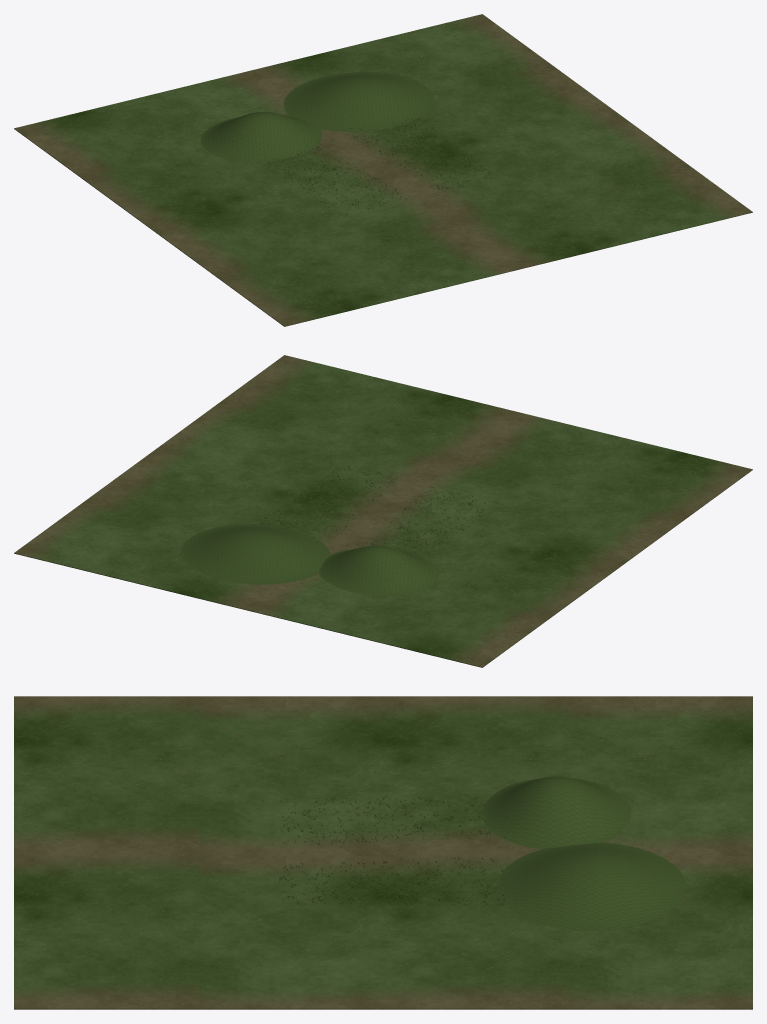
Rendered from hills-v1.glb.
3 views of the same model, one above another, from view 1: azimuth 30°, elevation 25°; view 2: azimuth 150°, elevation 25°; view 3: azimuth 270°, elevation 25° (orthographic). The views are drawn at different scales.
Parts seen in each view (by area): view 1: Earth gravel and wheel ruts, Distant terrain rise, Grass blades; view 2: Earth gravel and wheel ruts, Distant terrain rise, Grass blades; view 3: Earth gravel and wheel ruts, Distant terrain rise, Grass blades.
Boxes of the visible parts, x1=… form: Earth gravel and wheel ruts: x1=14, y1=14, x2=752, y2=326; Distant terrain rise: x1=200, y1=72, x2=434, y2=161; Grass blades: x1=268, y1=113, x2=493, y2=214; Earth gravel and wheel ruts: x1=14, y1=355, x2=752, y2=667; Distant terrain rise: x1=181, y1=524, x2=438, y2=595; Grass blades: x1=256, y1=465, x2=497, y2=558; Earth gravel and wheel ruts: x1=14, y1=696, x2=752, y2=1009; Distant terrain rise: x1=482, y1=776, x2=685, y2=930; Grass blades: x1=279, y1=795, x2=519, y2=905.
Size of the model in its own units: 64 by 3.2 by 64.
Materials: 3 (3 with a texture image).
